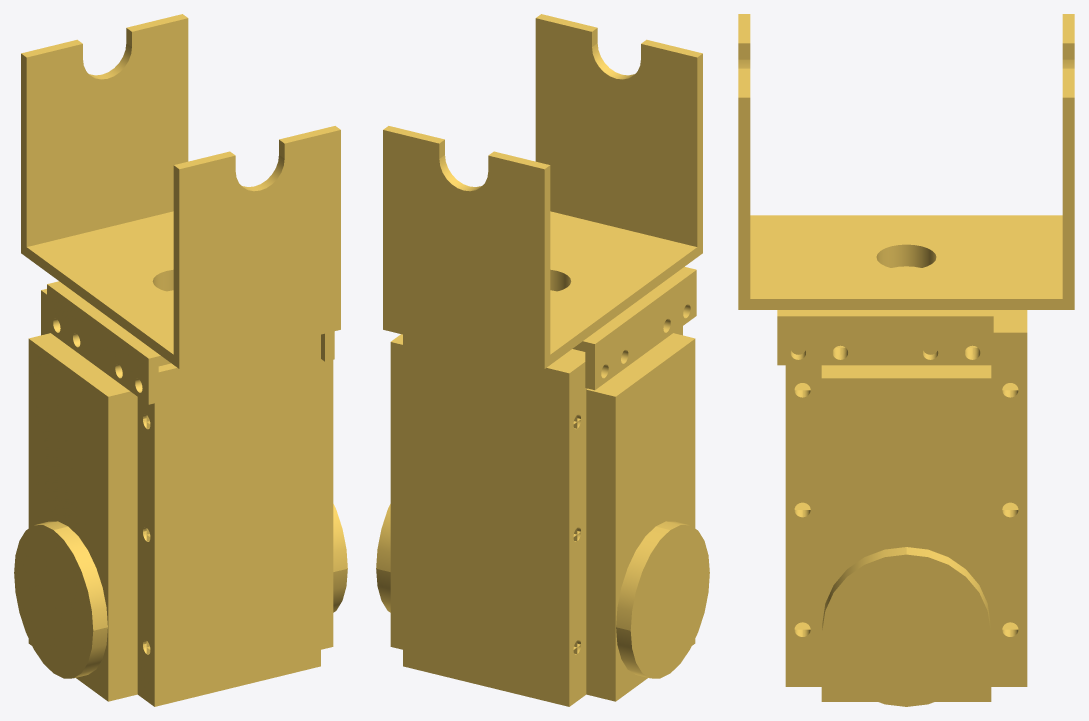
3 renders of one model, left to right at view 1: azimuth 30°, elevation 25°; view 2: azimuth 150°, elevation 25°; view 3: azimuth 270°, elevation 25°, orthographic. The views are drawn at different scales.
Visible parts, largest first — view 1: FR08-H101, group_3, group_2, group_1, FR05-S101; view 2: FR08-H101, group_3, group_2, group_1, FR05-S101; view 3: group_2, FR08-H101 (×2), group_3, group_1, FR05-S101 (×2).
Boxes of the visible parts, x1,y1,x2,y2 form: FR08-H101: (21,14,340,368); group_3: (41,289,320,706); group_2: (28,333,333,701); group_1: (14,504,347,678); FR05-S101: (47,281,334,404); FR08-H101: (383,14,702,368); group_3: (403,290,682,706); group_2: (390,333,695,701); group_1: (376,504,709,678); FR05-S101: (572,266,696,390); group_2: (821,365,991,701); FR08-H101 (×2): (738,14,1074,309); group_3: (785,266,1027,686); group_1: (822,547,990,706); FR05-S101 (×2): (777,255,993,365).
Bounding box in the file's own units: 2.05 × 2.2 × 4.25.
